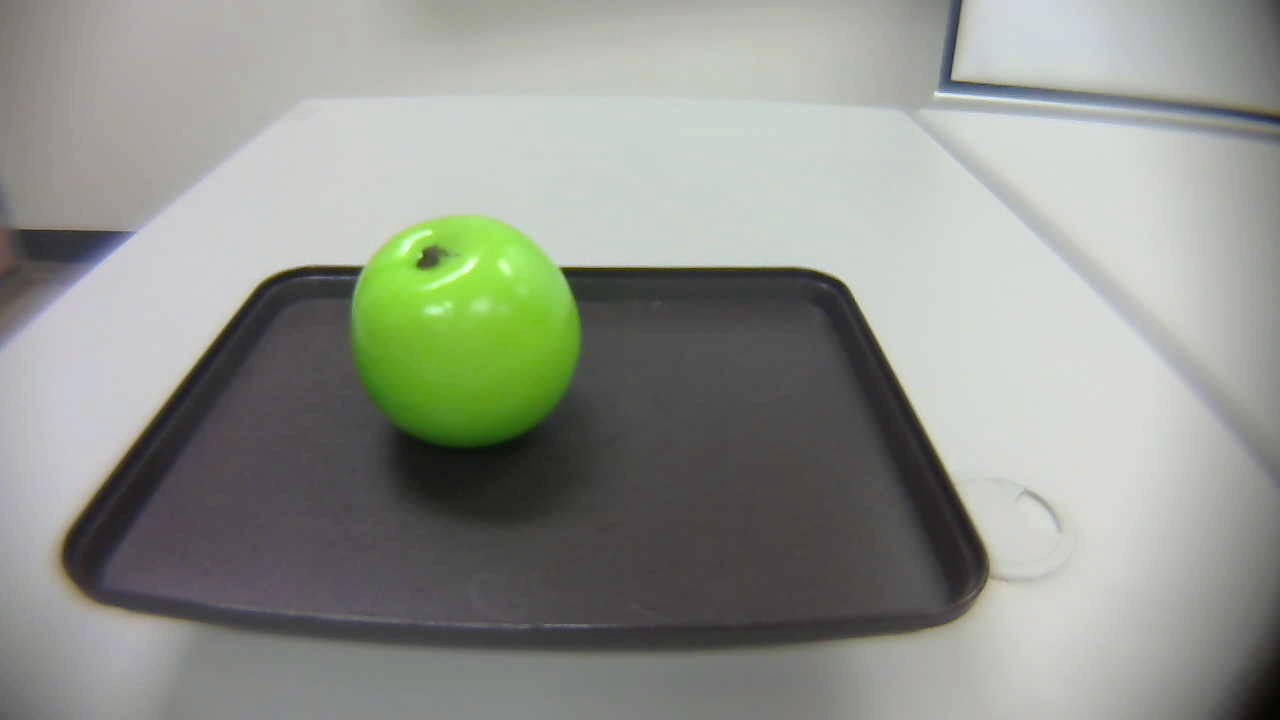green apple: (333, 205, 593, 447)
